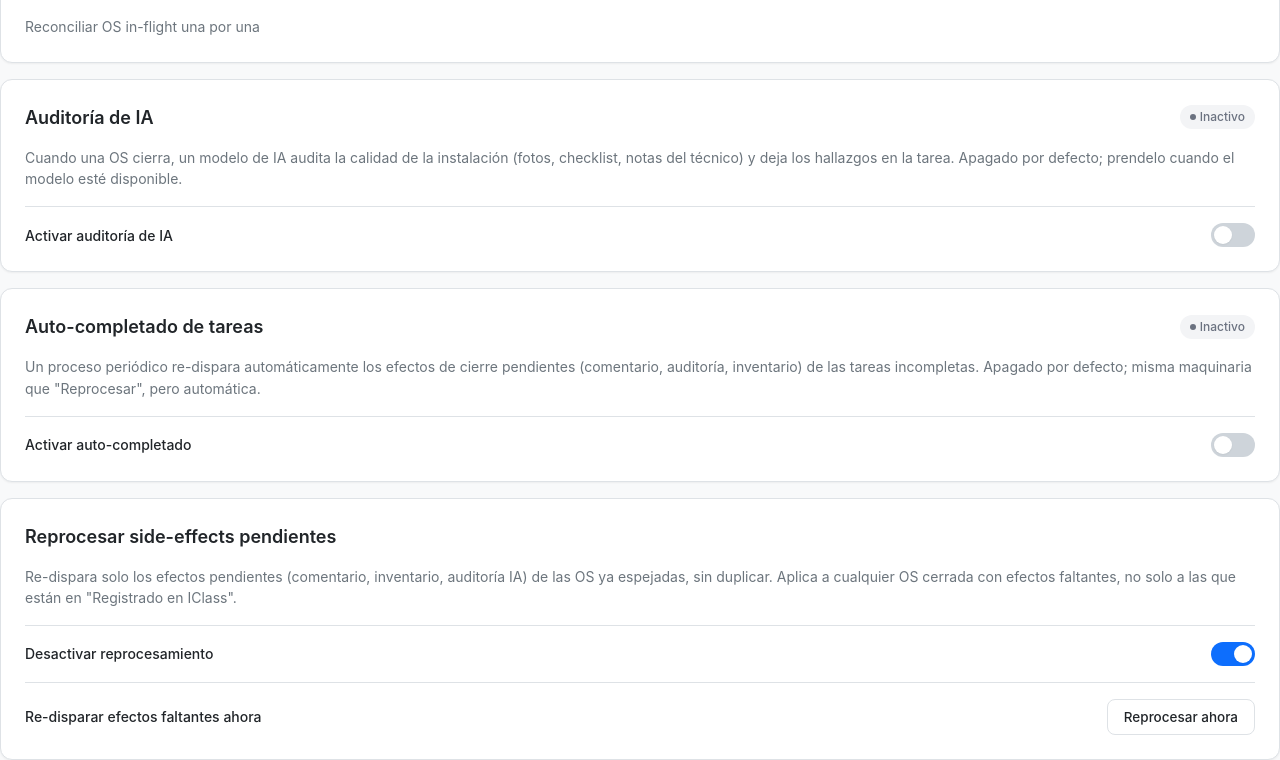
Test: IClassClosureFlagBody › shows "encolado" banner when reprocess mutation returns queued:true
The width and height of the screenshot is (1280, 760).
(page scrolled)
Click the button "Reprocesar ahora": (1181, 717) [1107,699,1255,735]
(page scrolled)
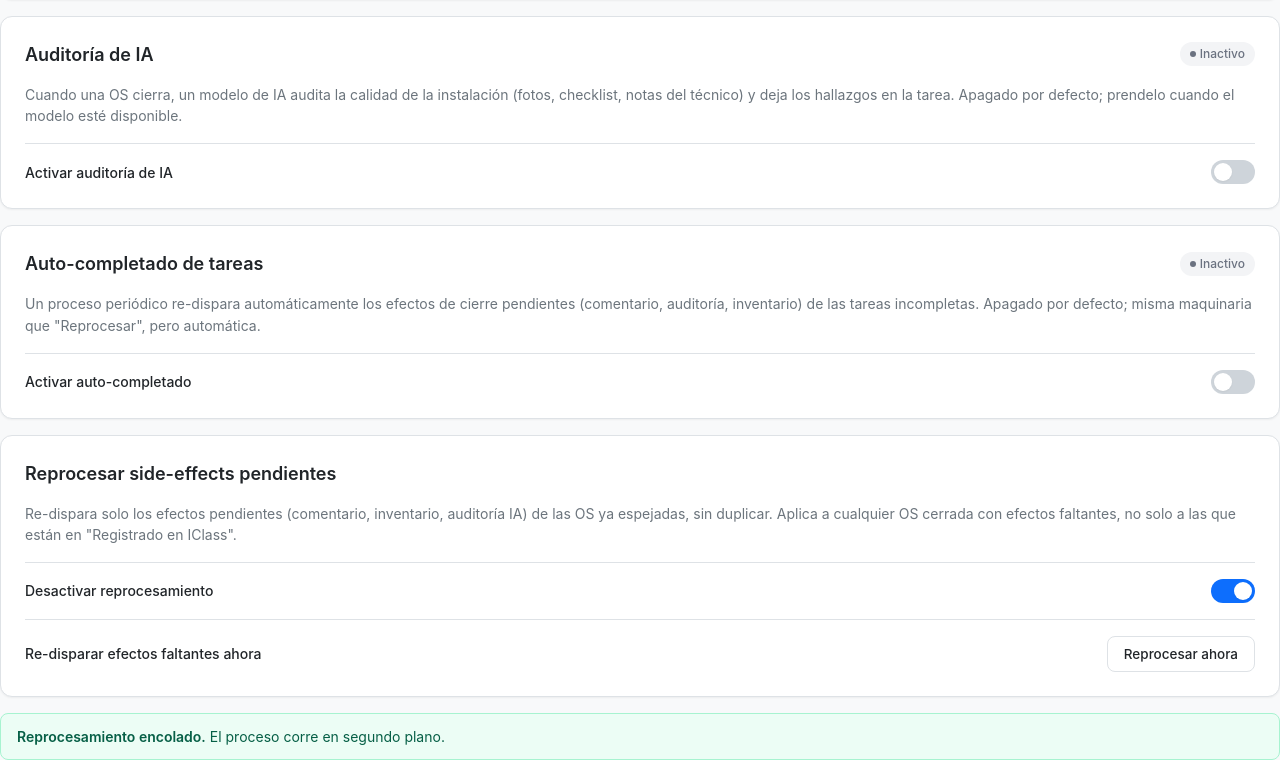
Expected: the text "Reprocesamiento encolado." is shown, [17,728,206,745]
